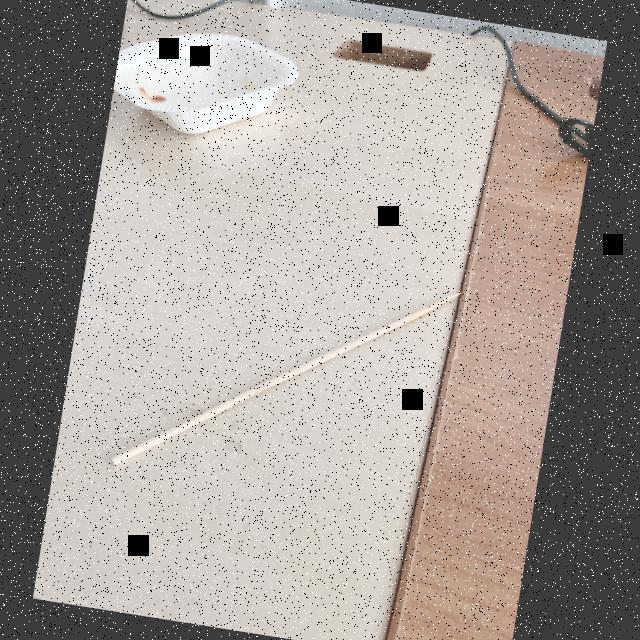cardboard_bowl: (106, 8, 308, 166)
stick: (95, 224, 478, 537)
